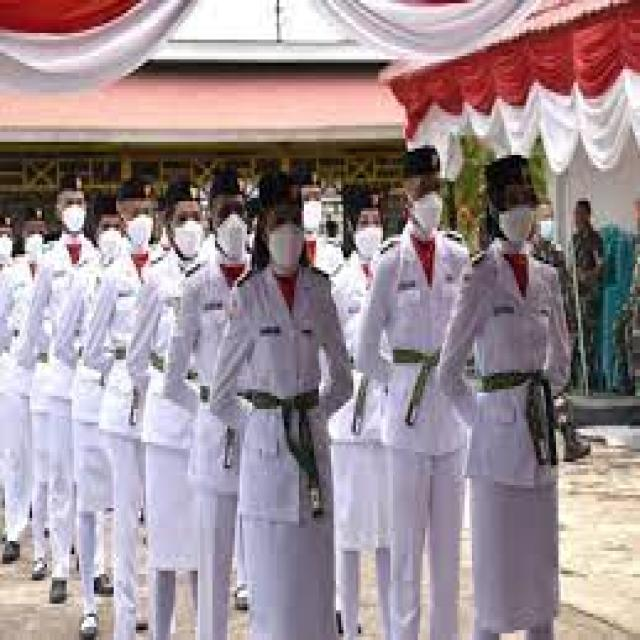peserta: (460, 153, 568, 640), (374, 149, 482, 635), (251, 176, 333, 640), (178, 188, 257, 626), (333, 171, 400, 640), (146, 174, 208, 626), (104, 176, 161, 640), (66, 189, 130, 600), (52, 169, 99, 613)
